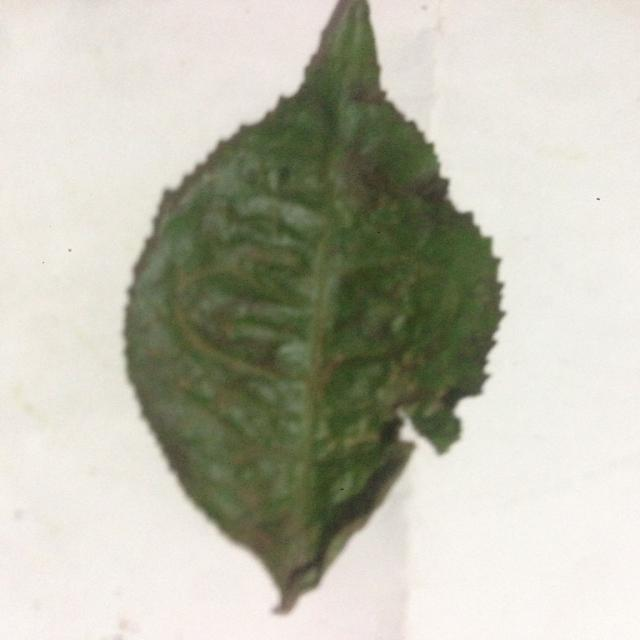Red Leaf Spot: (123, 0, 508, 612)
